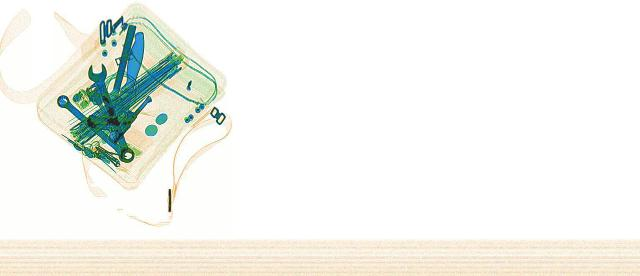Gun: (76, 89, 158, 133)
Knife: (122, 30, 144, 103)
Wrench: (47, 93, 141, 161), (83, 63, 139, 161)
